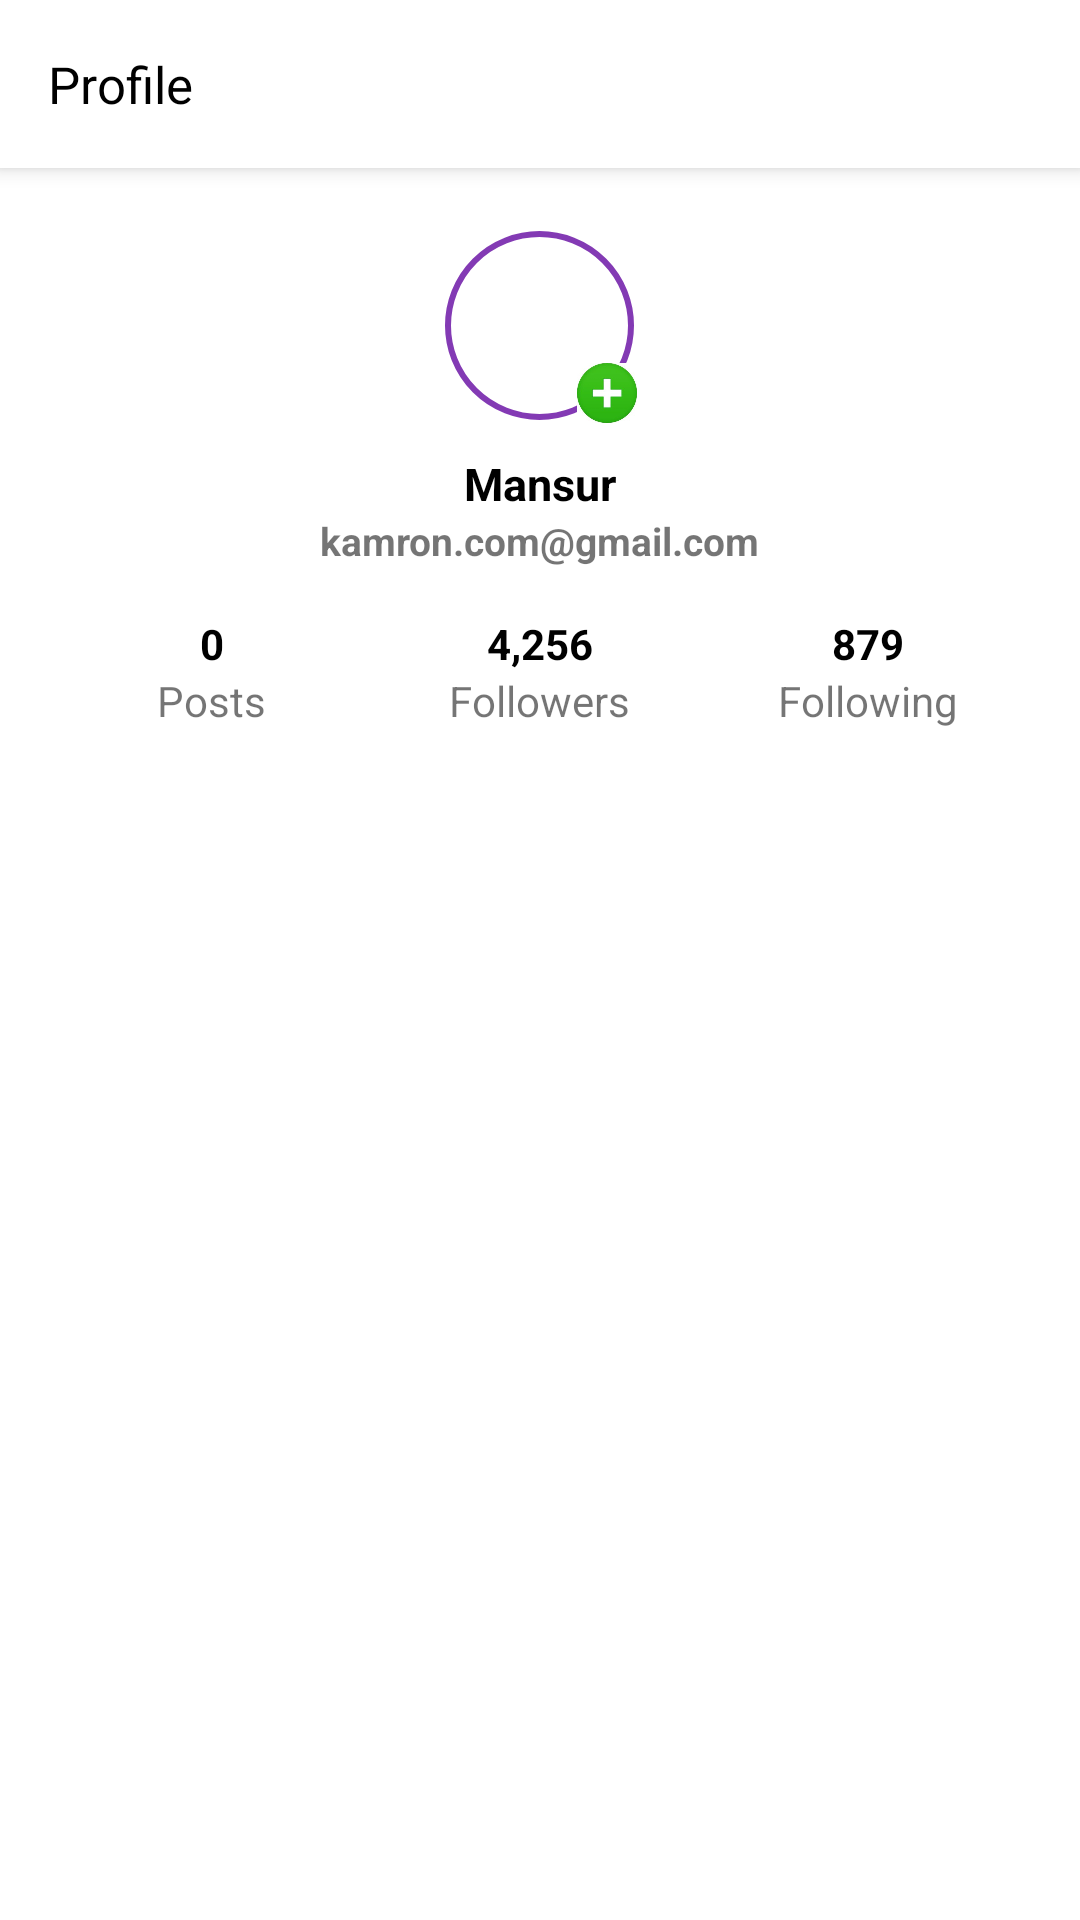

Icon bounding boxes for this 1080px×1920px phone screenshot, format (x1, y1, x2, y2):
plus: (577, 363, 637, 423)
